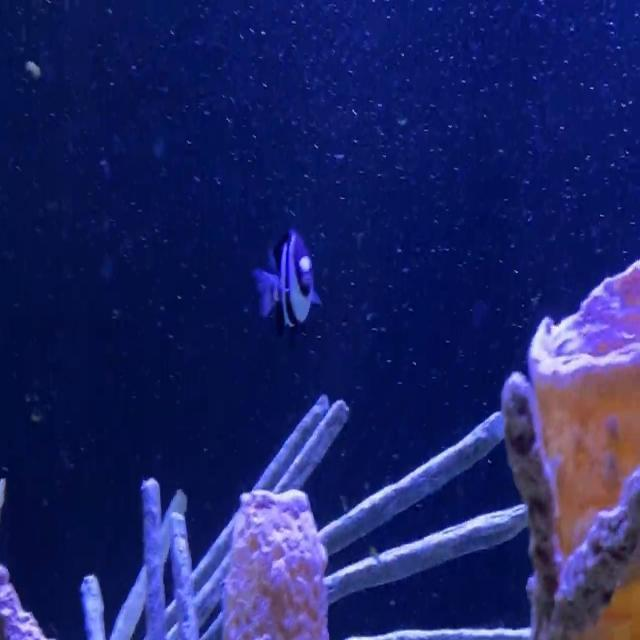Three_striped DasmselFish: (248, 226, 326, 340)
